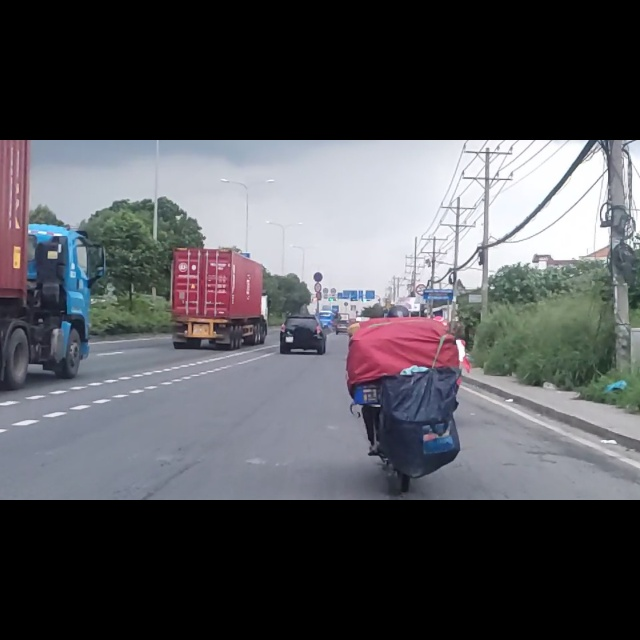bien_chi_dan: (416, 256, 426, 276), (313, 233, 323, 251)
